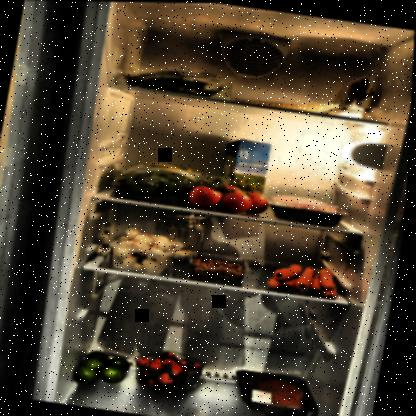beef: (231, 366, 331, 415)
carrot: (266, 258, 347, 301)
green_beans: (121, 61, 235, 100)
ground_beef: (266, 191, 354, 228)
lime: (77, 347, 135, 390)
milk: (219, 136, 277, 205)
mushrooms: (111, 221, 188, 276)
shrimp: (190, 255, 247, 282)
spinach: (113, 156, 222, 206)
strawberries: (132, 342, 211, 397)
tomato: (186, 178, 273, 217)
